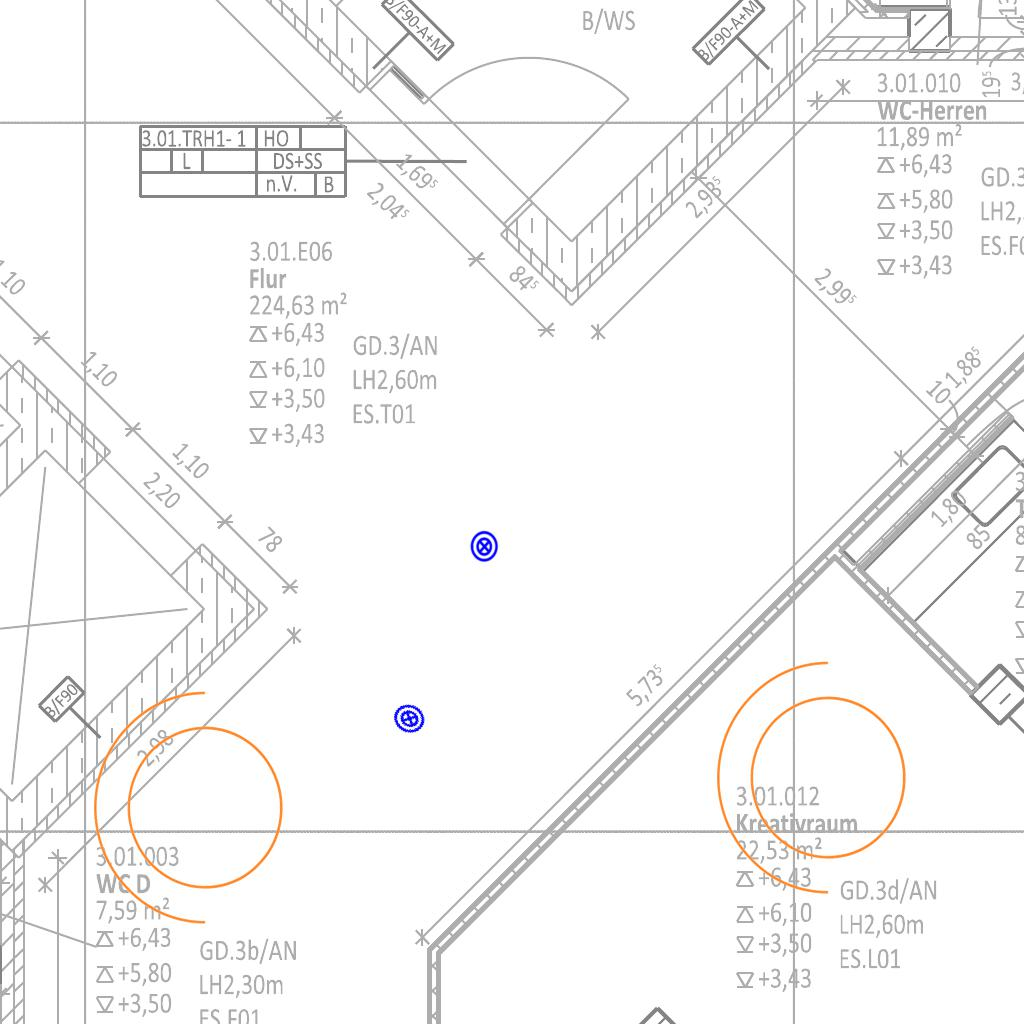Scheinwerfer_fuer_Alarmbeleuchtung: (706, 652, 931, 916), (83, 682, 308, 946)
Taster_beleuchtet: (387, 696, 432, 741), (468, 530, 501, 563)
